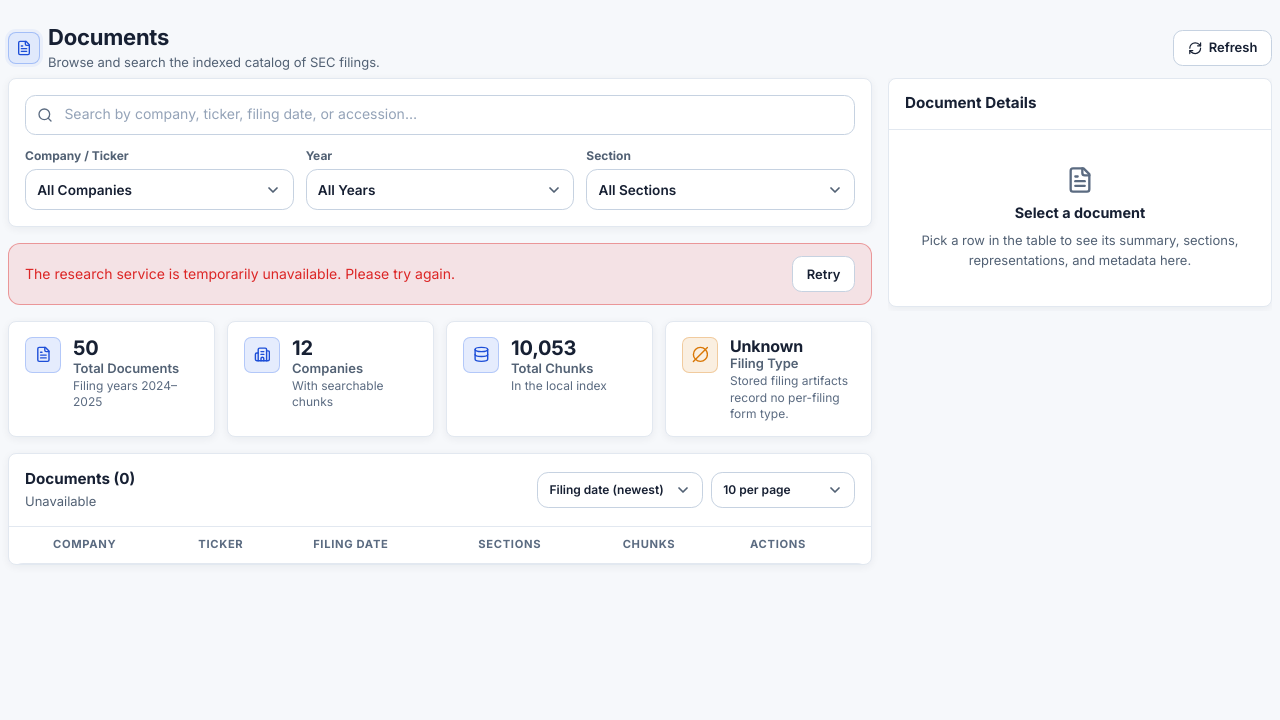
Test case: DocumentExplorerPanel › keeps the error state distinct and retries without losing the list
Expected: the message shows "research service is temporarily unavailable", [25,265,455,282]
Click the button "Retry": (824, 274) [792,256,855,292]
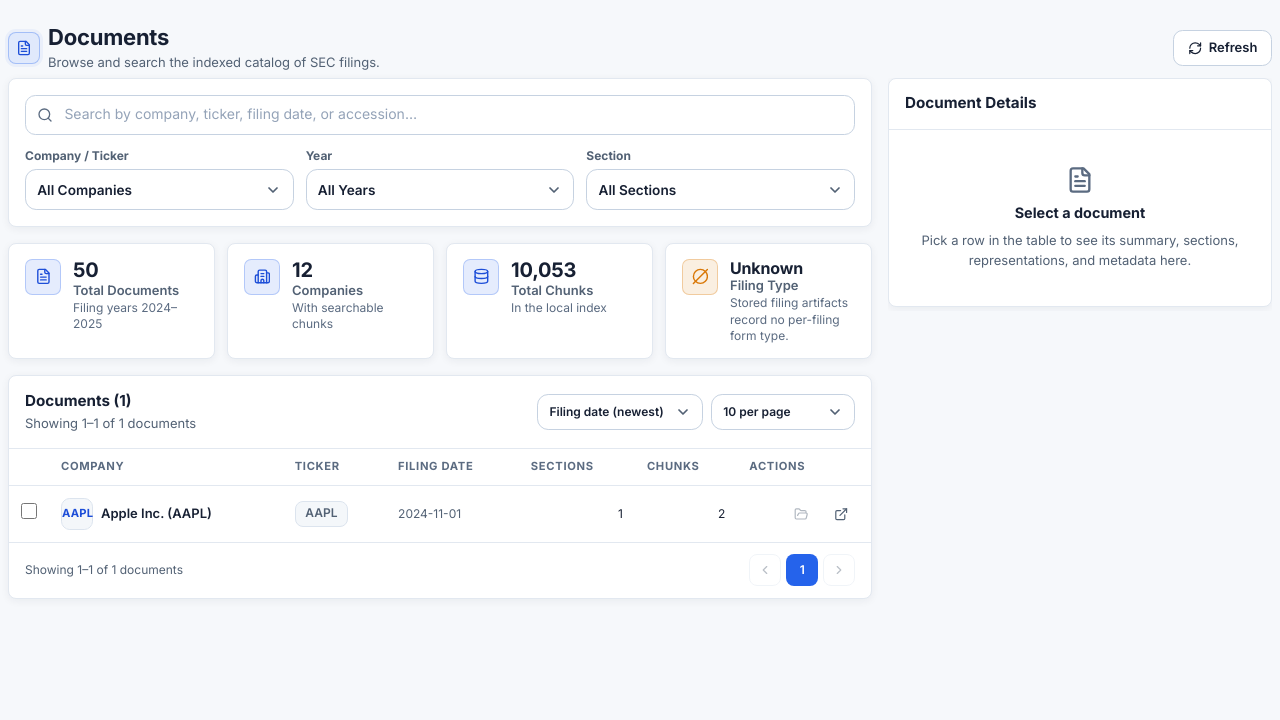
Result: the text "Apple Inc. (AAPL)" is shown at [101,504,212,524]
